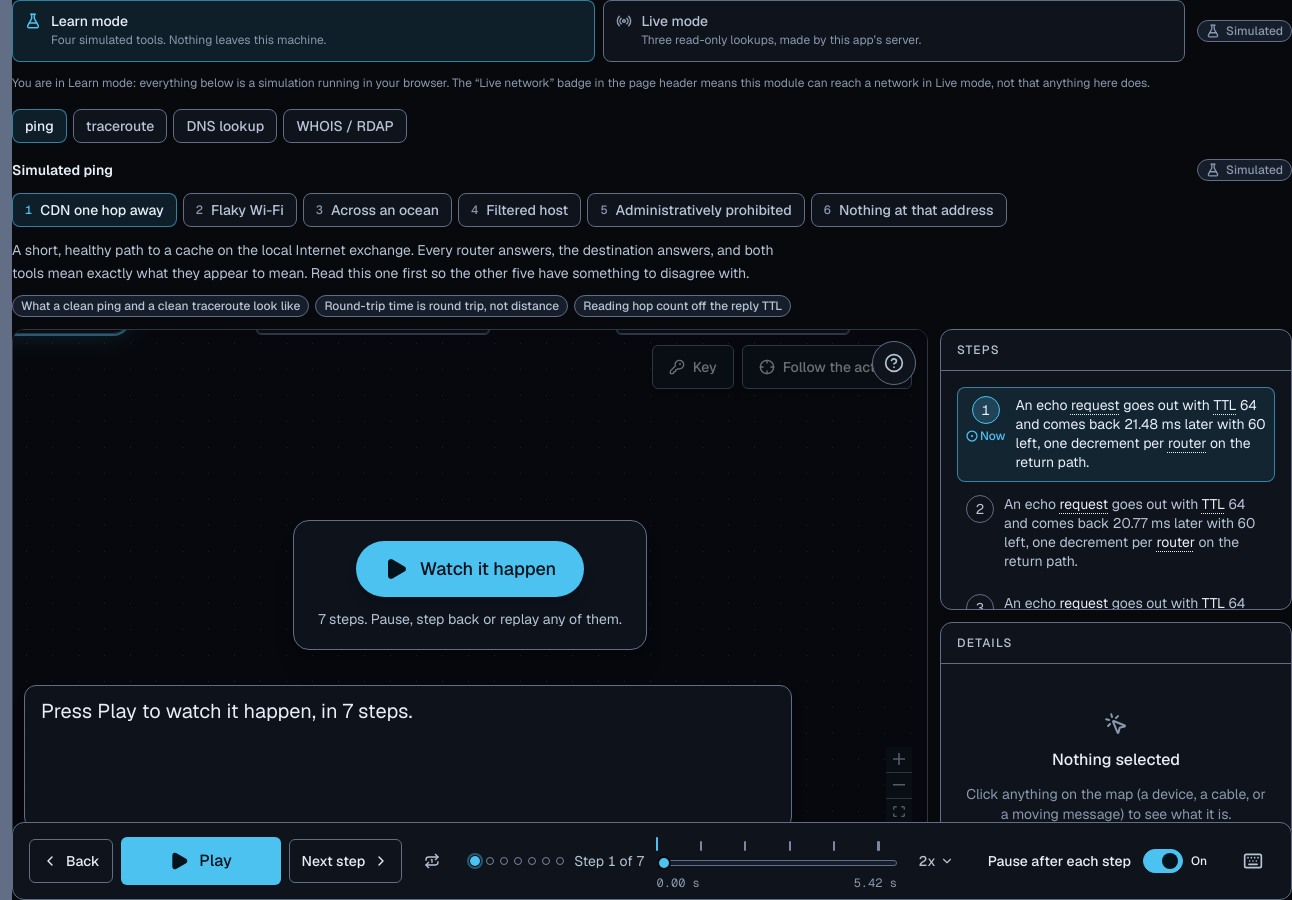
Test: the corrections each tool exists to make › explains the status codes and prints both protocols on a registration lookup
The width and height of the screenshot is (1292, 900).
Click the button "WHOIS / RDAP".
click(345, 126)  # box x1=283 y1=109 x2=407 y2=143
(page scrolled)
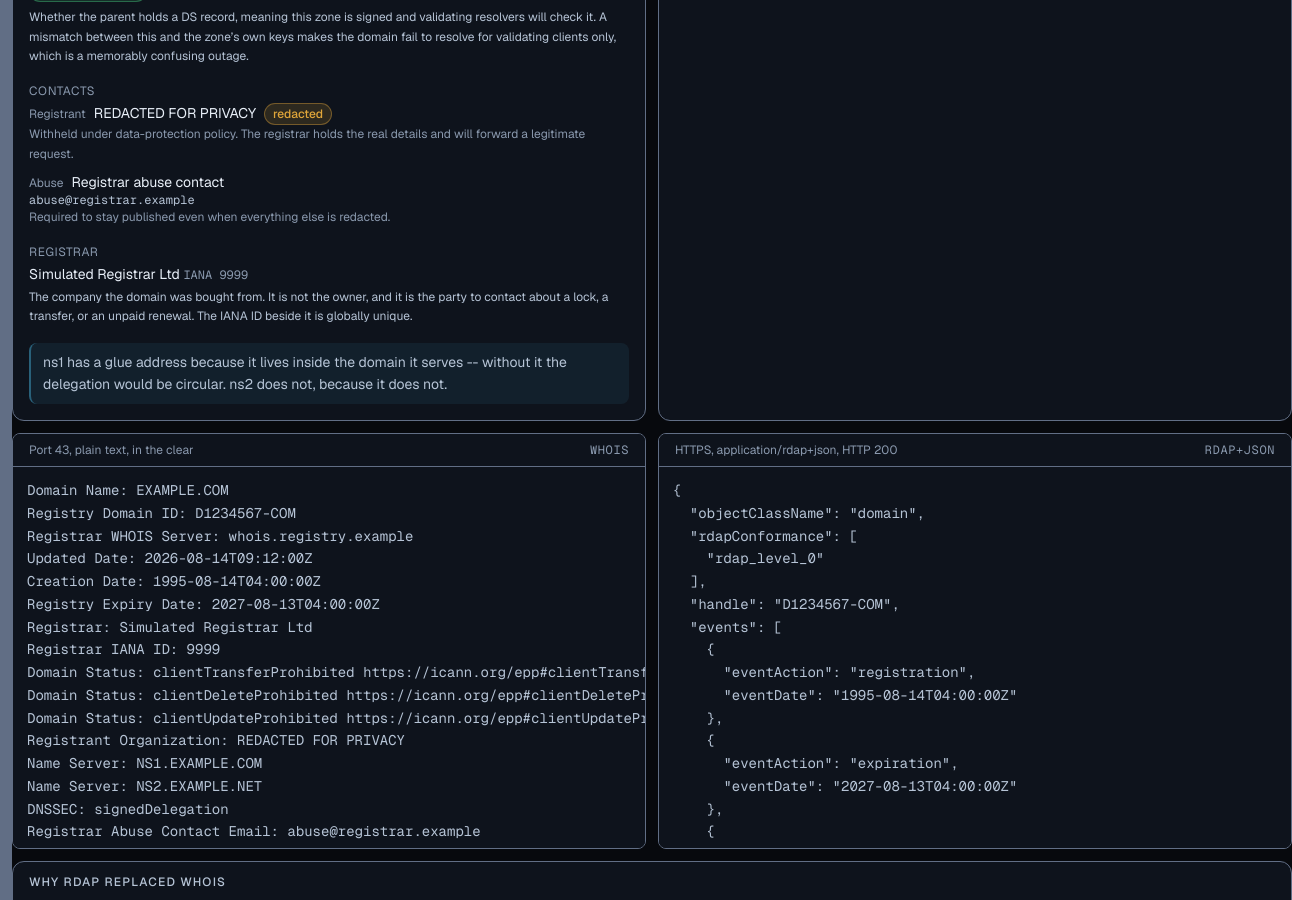
Result: the text "Port 43, plain text, in the clear" is shown at x1=29 y1=442 x2=194 y2=458
Result: the text "HTTPS, application/rdap+json, HTTP 200" is shown at x1=675 y1=442 x2=897 y2=458
